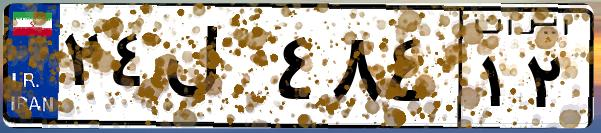1: (475, 38, 525, 113)
2: (57, 26, 110, 100), (525, 38, 570, 115)
4: (270, 28, 330, 110), (385, 28, 445, 110), (110, 28, 158, 98)
8: (330, 28, 385, 110)
ل: (158, 20, 270, 120)
